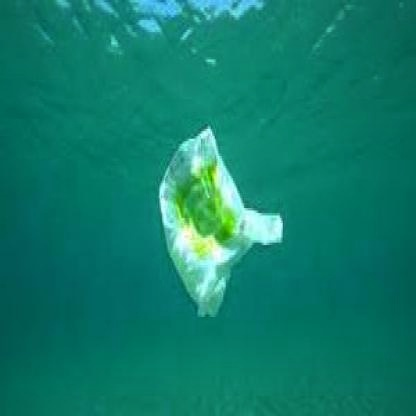pbag: (157, 126, 284, 320)
